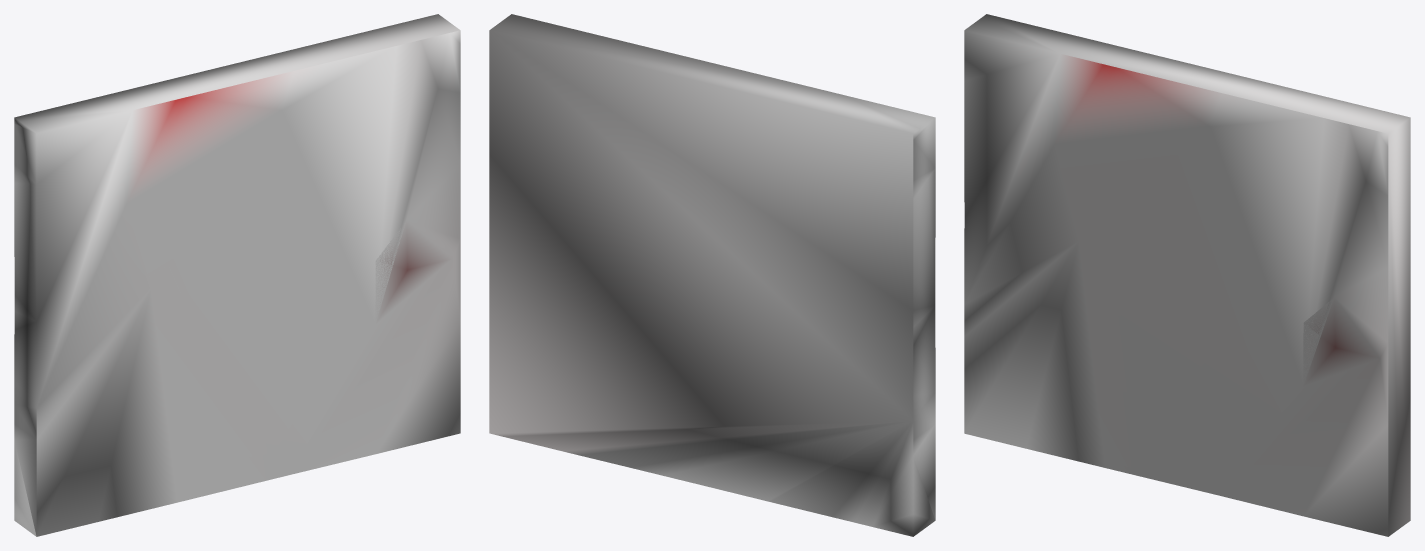
The model's file is SM_FA_Factory_W220_H200.fbx.
The picture shows the model from 3 angles, left to right: view 1: azimuth 30°, elevation 25°; view 2: azimuth 150°, elevation 25°; view 3: azimuth 330°, elevation 25°; orthographic projection.
Parts seen in each view (by area): view 1: SM_FA_Factory_W220_H200; view 2: SM_FA_Factory_W220_H200; view 3: SM_FA_Factory_W220_H200.
Part boxes in pixels (x1=…): SM_FA_Factory_W220_H200: x1=14, y1=14, x2=460, y2=536; SM_FA_Factory_W220_H200: x1=489, y1=14, x2=935, y2=536; SM_FA_Factory_W220_H200: x1=964, y1=14, x2=1410, y2=536.
Size of the model in its own units: 220 by 20 by 200.
